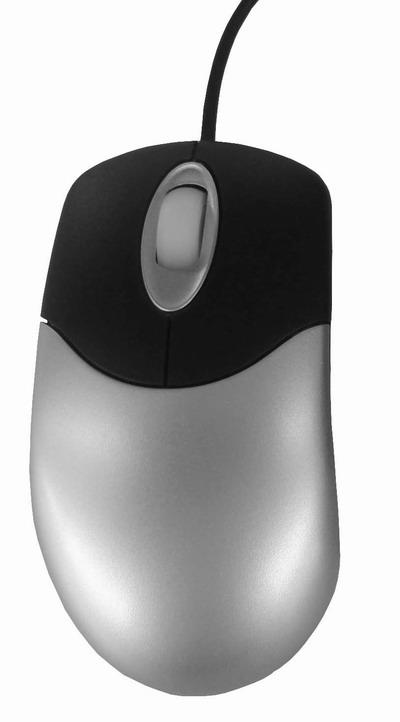computer mouse: (31, 131, 341, 698)
